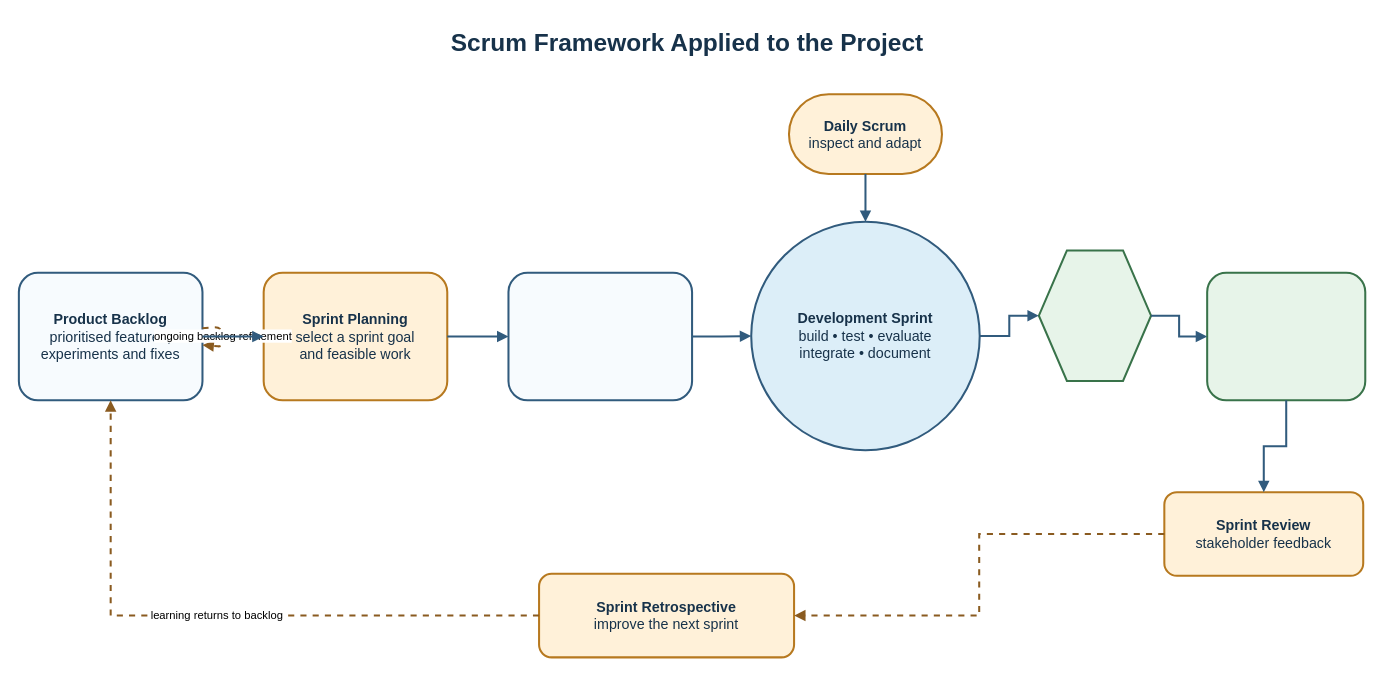
Some shapes in this 1383 by 675 pixel diagram are drawn without their labels. The shapes that lost their labels are listed below. From the top down, each one's centre as x and y in pixels, then its label:
At [1094,315]: "Definition of Done tests pass".
At [600,336]: "Sprint Backlog dataset, model, API and retrieval tasks".
At [1286,336]: "Working Increment reviewable output".
